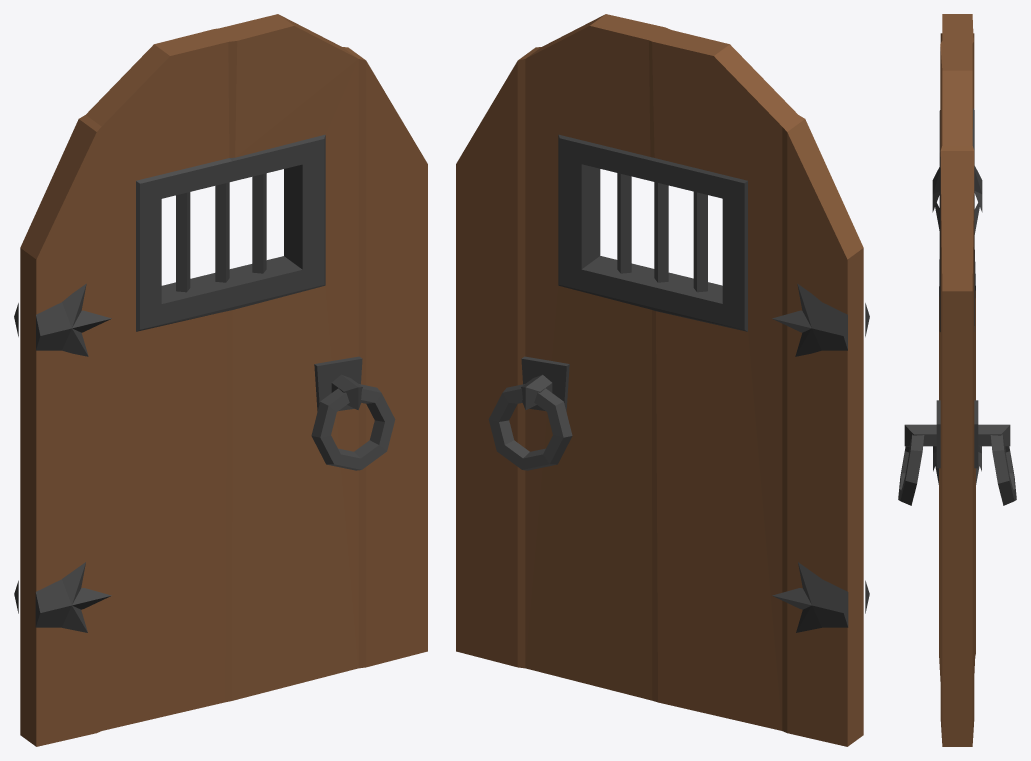
The model's file is fantasy-door-wood.glb.
3 views of the same model, side by side, from view 1: azimuth 30°, elevation 25°; view 2: azimuth 150°, elevation 25°; view 3: azimuth 270°, elevation 25° (orthographic). The views are drawn at different scales.
Parts seen in each view (by area): view 1: door-wood; view 2: door-wood; view 3: door-wood.
Boxes of the visible parts, bbox=[...] form: door-wood: bbox=[14, 14, 427, 746]; door-wood: bbox=[456, 14, 869, 746]; door-wood: bbox=[898, 14, 1016, 746].
Size of the model in its own units: 1.4 by 2.25 by 0.3929.
